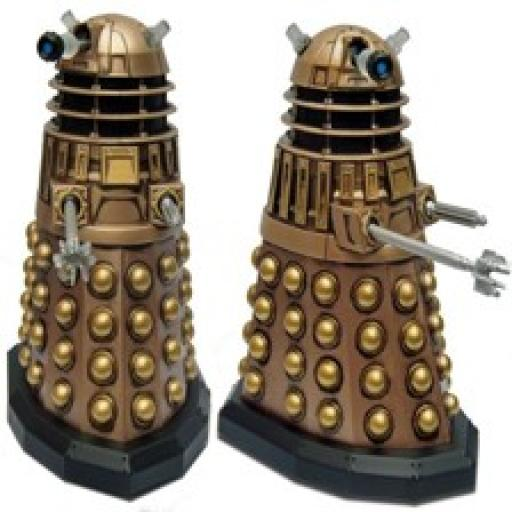dalek: (215, 14, 512, 510), (7, 8, 210, 500)
